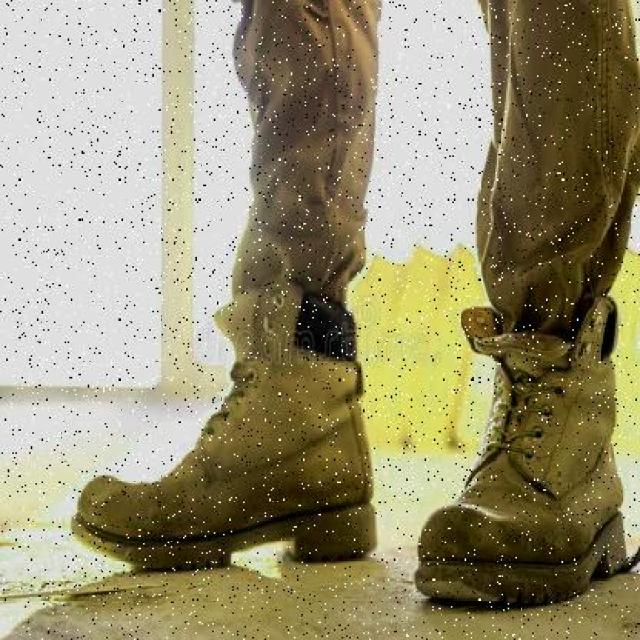shoes: (76, 343, 387, 554), (422, 311, 620, 597)
